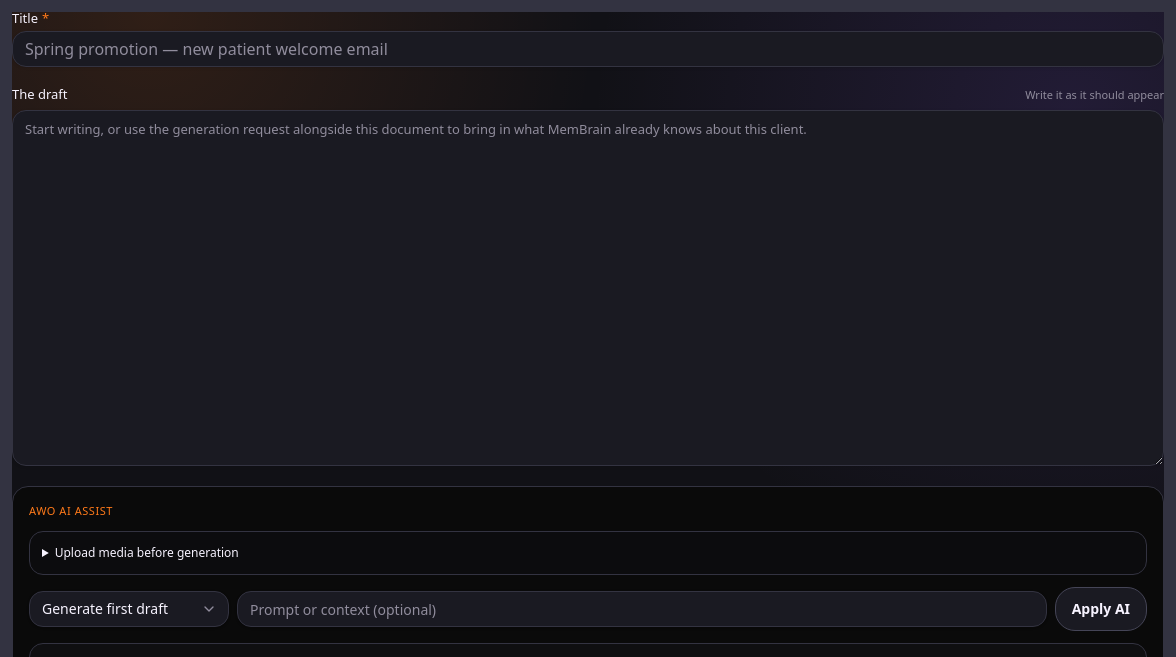
Test case: AWO AI Assist — 12 component interaction tests › 3 — typing content into empty editor transitions action to 'rewrite'
The image size is (1176, 657).
Expected: the dropdown named "ai action selection" shows "Generate first draft", [29,591,229,627]
Replace the text in the text box with id "body" with "New draft content typed by user.": {"x": 588, "y": 288} [12,110,1164,466]
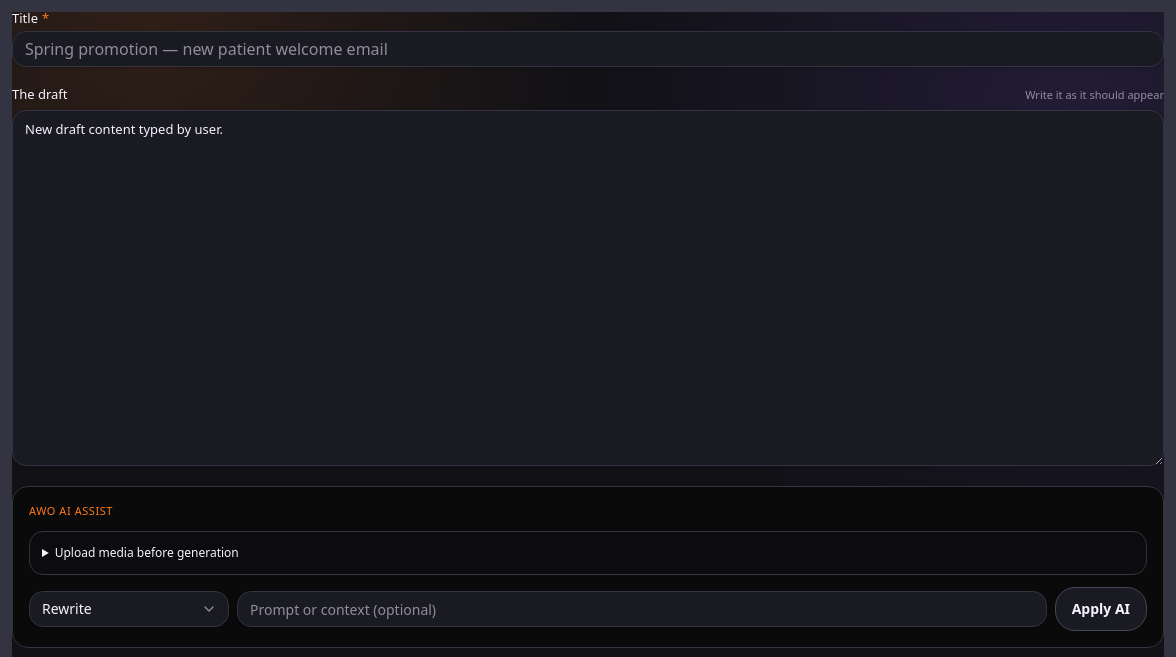
Expected: the dropdown named "ai action selection" shows "Rewrite", [29,591,229,627]
